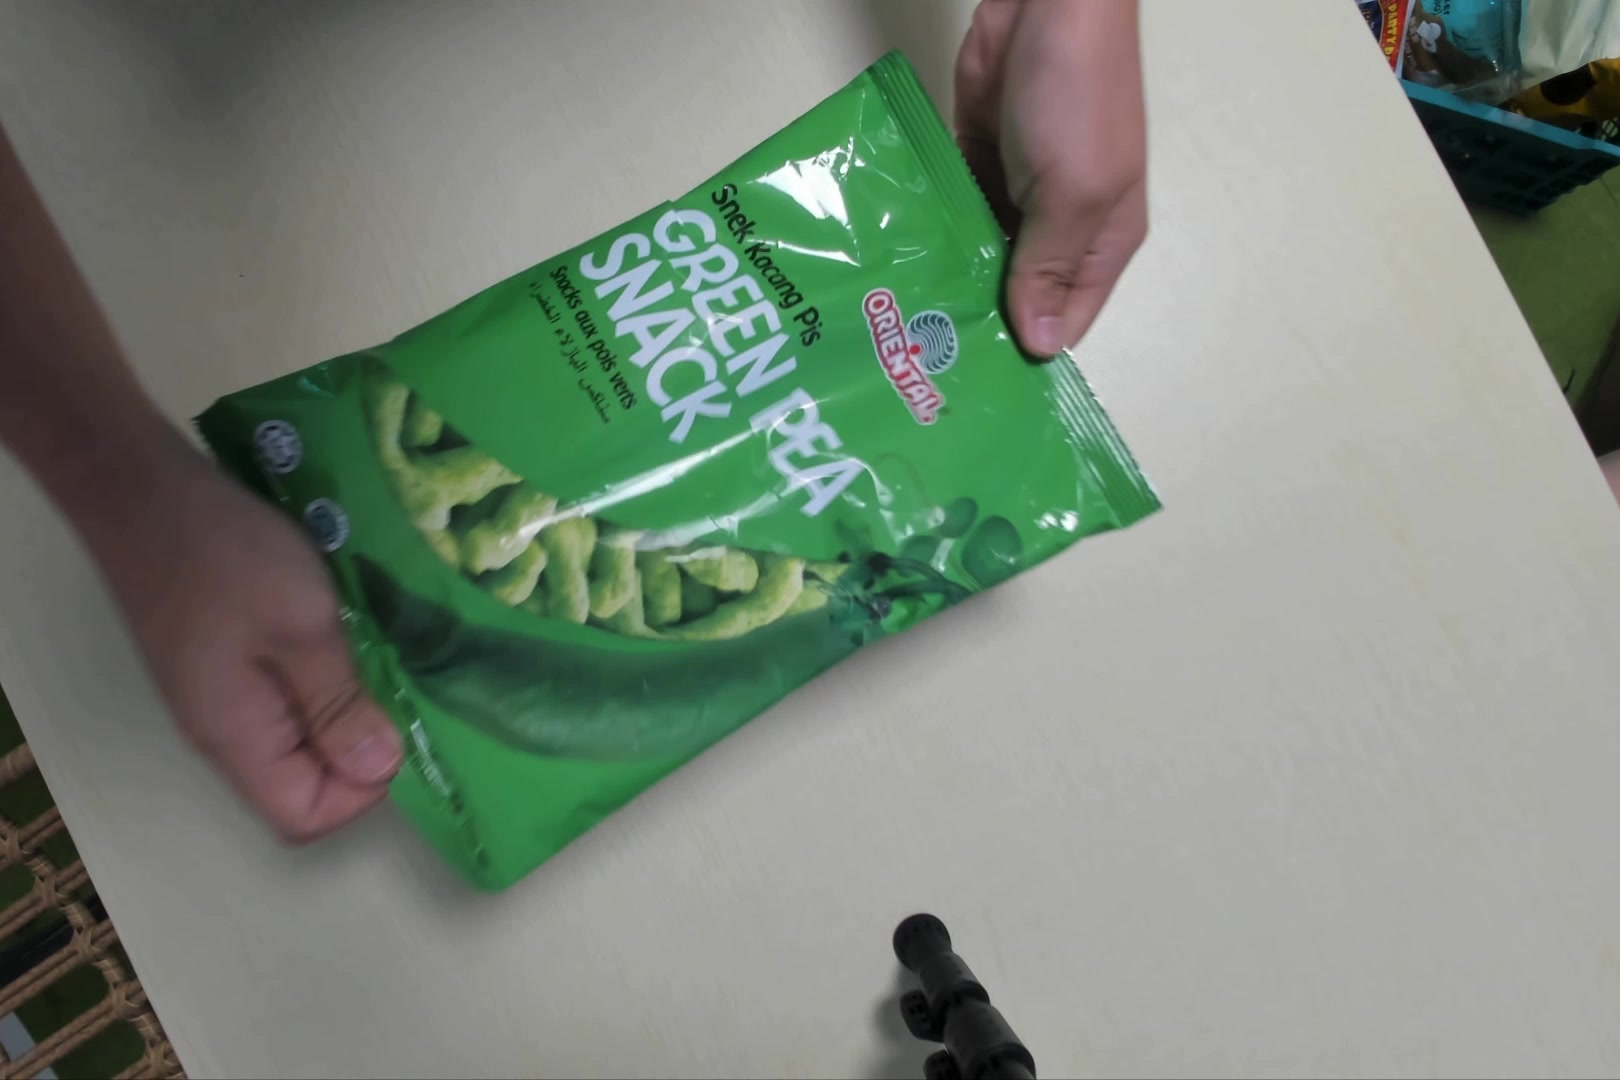Nuts_100-199g_Halal_NonHealthy: (188, 77, 1146, 898)
